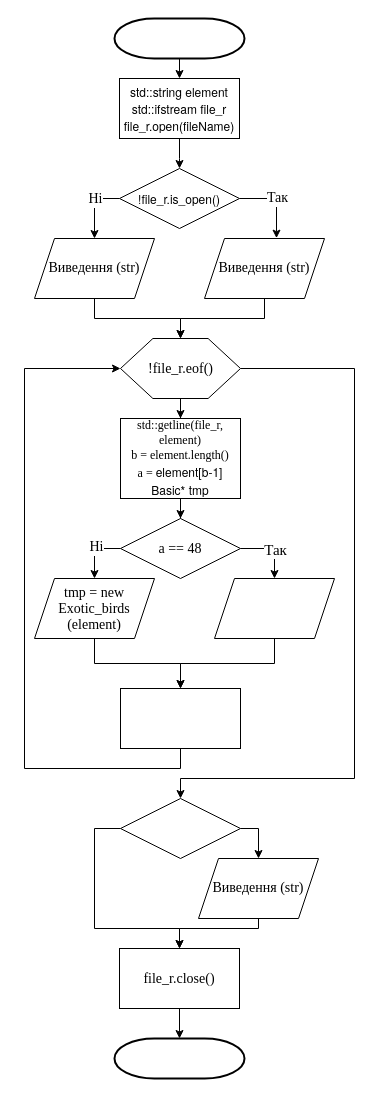
The diagram is 380 pixels wide and 1096 high, and some of its shapes have lost their labels. The centre of each missing label's shape, as x and y in pixels:
element == "": point (180, 828)
readFromFile(std::string fileName): point (179, 38)
this->AddBird(tmp): point (180, 718)
tmp = new Layer_Birds (element);: point (274, 608)
Кінець: point (179, 1058)
